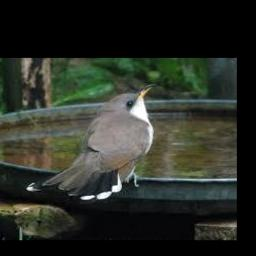Cuckoo: (26, 83, 158, 200)
